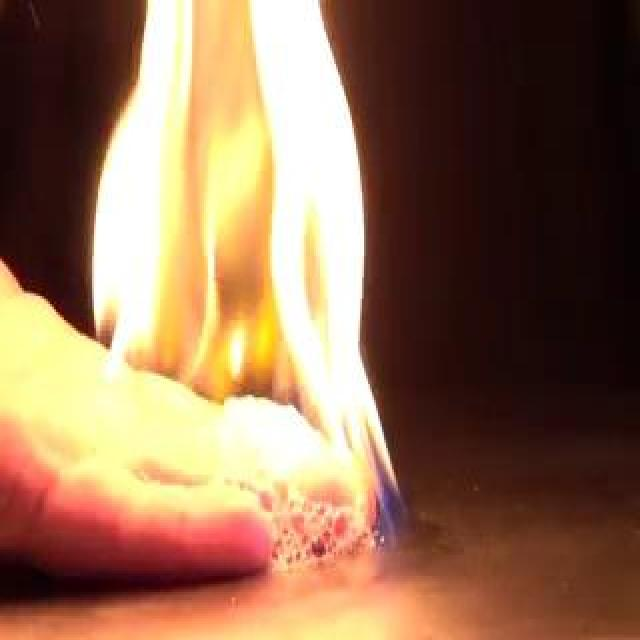Fire: (78, 3, 402, 536)
